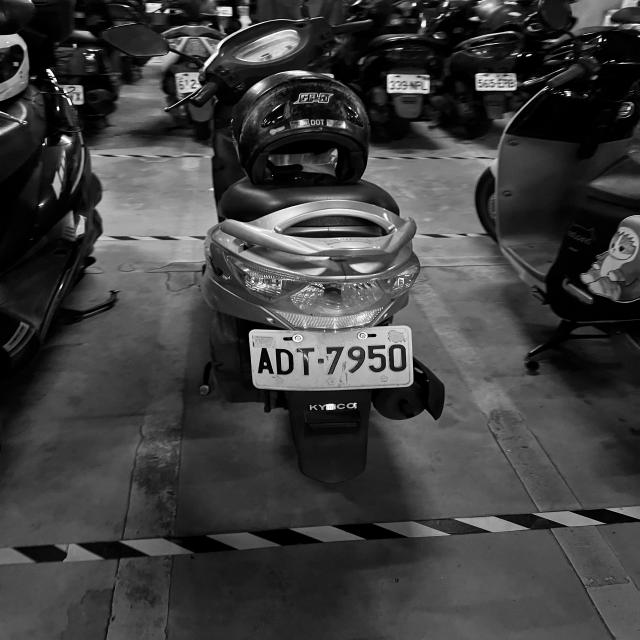-: (316, 356, 326, 367)
0: (387, 340, 407, 376)
3: (389, 80, 396, 90), (402, 80, 408, 90), (396, 80, 402, 90)
5: (368, 343, 388, 373)
7: (324, 346, 344, 374)
9: (348, 347, 366, 372)
A: (257, 346, 275, 374)
D: (274, 346, 295, 376)
T: (295, 346, 317, 376)
plate: (248, 330, 416, 384), (387, 75, 430, 94), (474, 75, 516, 89)
